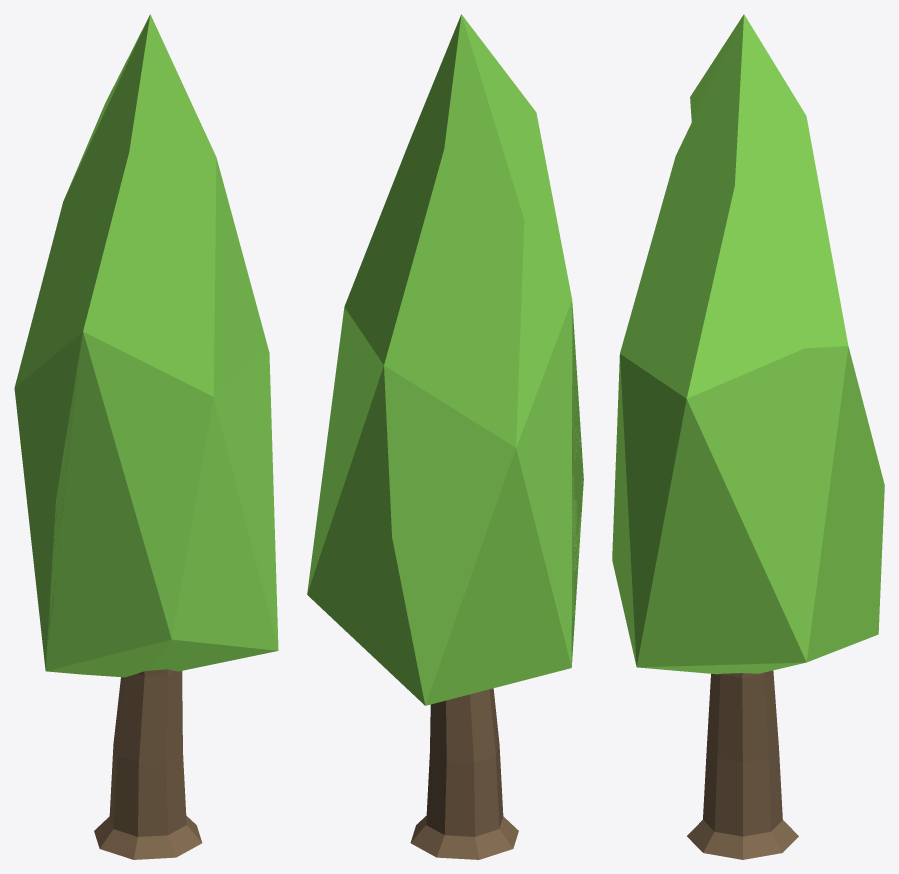
Rendered from кипаристипа (1).fbx.
The picture shows the model from 3 angles, left to right: view 1: azimuth 30°, elevation 25°; view 2: azimuth 150°, elevation 25°; view 3: azimuth 270°, elevation 25°; orthographic projection.
Parts seen in each view (by area): view 1: Cylinder; view 2: Cylinder; view 3: Cylinder.
Boxes of the visible parts, bbox=[...] form: Cylinder: bbox=[14, 14, 278, 859]; Cylinder: bbox=[307, 14, 583, 859]; Cylinder: bbox=[612, 14, 884, 859].
Bounding box in the file's own units: 335 × 1138 × 342.
